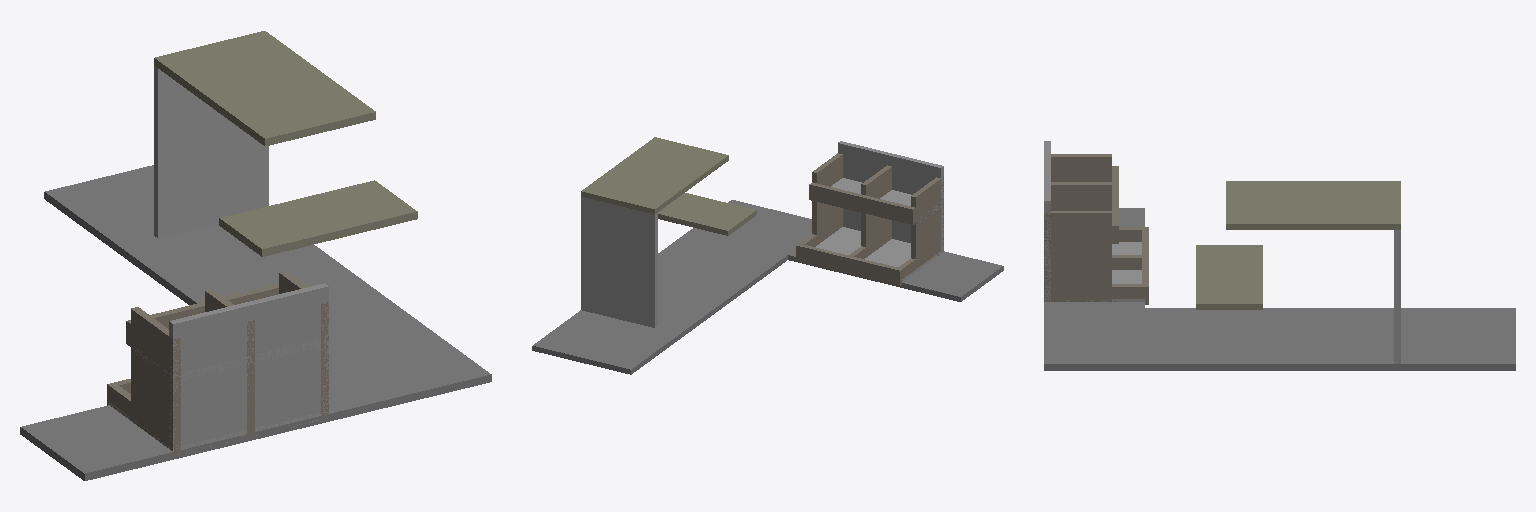
URDF robot description (industrial):
<robot name="industrial">
    <link name="object" type="static">
        <contact>
            <lateral_friction value="1.0"/>
        </contact>
        <inertial>
            <origin rpy="0 0 0" xyz="0 0 0"/>
            <mass value=".0"/>
            <inertia ixx="1" ixy="0" ixz="0" iyy="1" iyz="0" izz="1"/>
        </inertial>
        <visual>
            <origin xyz="0.75 -0.1 0.7" rpy="0 0 0"/>
            <geometry>
                <box size="0.4 1.4 0.02"/>
            </geometry>
            <material name="white">
                <color rgba="0.517647058823529 0.517647058823529 0.517647058823529 1"/>
            </material>
        </visual>
        <visual>
            <origin xyz="0.4 -0.65 0.7" rpy="0 0 0"/>
            <geometry>
                <box size="1.1 0.3 0.02"/>
            </geometry>
            <material name="white">
                <color rgba="0.517647058823529 0.517647058823529 0.517647058823529 1"/>
            </material>
        </visual>
        <visual>
            <origin xyz="0.1 -0.7 0.85" rpy="0 0 0"/>
            <geometry>
                <box size="0.02 0.2 0.3"/>
            </geometry>
            <material name="white">
                <color rgba="0.545098039215686 0.513725490196078 0.470588235294118 0.988235294117647"/>
            </material>
        </visual>
        <visual>
            <origin xyz="0.3 -0.7 0.85" rpy="0 0 0"/>
            <geometry>
                <box size="0.02 0.2 0.3"/>
            </geometry>
            <material name="white">
                <color rgba="0.545098039215686 0.513725490196078 0.470588235294118 1"/>
            </material>
        </visual>
        <visual>
            <origin xyz="0.5 -0.7 0.85" rpy="0 0 0"/>
            <geometry>
                <box size="0.02 0.2 0.3"/>
            </geometry>
            <material name="white">
                <color rgba="0.545098039215686 0.513725490196078 0.470588235294118 0.988235294117647"/>
            </material>
        </visual>
        <visual>
            <origin xyz="0.3 -0.65 0.71" rpy="0 0 0"/>
            <geometry>
                <box size="0.42 0.3 0.02"/>
            </geometry>
            <material name="white">
                <color rgba="0.627450980392157 0.627450980392157 0.627450980392157 1"/>
            </material>
        </visual>
        <visual>
            <origin xyz="0.1 -0.55 0.73" rpy="0 0 0"/>
            <geometry>
                <box size="0.02 0.1 0.06"/>
            </geometry>
            <material name="white">
                <color rgba="0.545098039215686 0.513725490196078 0.470588235294118 1"/>
            </material>
        </visual>
        <visual>
            <origin xyz="0.3 -0.55 0.73" rpy="0 0 0"/>
            <geometry>
                <box size="0.02 0.1 0.06"/>
            </geometry>
            <material name="white">
                <color rgba="0.545098039215686 0.513725490196078 0.470588235294118 1"/>
            </material>
        </visual>
        <visual>
            <origin xyz="0.5 -0.55 0.73" rpy="0 0 0"/>
            <geometry>
                <box size="0.02 0.1 0.06"/>
            </geometry>
            <material name="white">
                <color rgba="0.545098039215686 0.513725490196078 0.470588235294118 1"/>
            </material>
        </visual>
        <visual>
            <origin xyz="0.3 -0.5 0.73" rpy="0 0 0"/>
            <geometry>
                <box size="0.42 0.02 0.06"/>
            </geometry>
            <material name="white">
                <color rgba="0.545098039215686 0.513725490196078 0.470588235294118 1"/>
            </material>
        </visual>
        <visual>
            <origin xyz="0.3 -0.59 0.93" rpy="0 0 0"/>
            <geometry>
                <box size="0.42 0.02 0.06"/>
            </geometry>
            <material name="white">
                <color rgba="0.545098039215686 0.513725490196078 0.470588235294118 1"/>
            </material>
        </visual>
        <visual>
            <origin xyz="0.3 -0.79 0.87" rpy="0 0 0"/>
            <geometry>
                <box size="0.42 0.02 0.34"/>
            </geometry>
            <material name="white">
                <color rgba="0.6 0.6 0.6 1"/>
            </material>
        </visual>
        <visual>
            <origin xyz="0.3 -0.7 0.9" rpy="0 0 0"/>
            <geometry>
                <box size="0.42 0.2 0.02"/>
            </geometry>
            <material name="white">
                <color rgba="0.627450980392157 0.627450980392157 0.627450980392157 0.980392156862745"/>
            </material>
        </visual>
        <visual>
            <origin xyz="0.8 0.25 0.925" rpy="0 0 0"/>
            <geometry>
                <box size="0.3 0.02 0.45"/>
            </geometry>
            <material name="white">
                <color rgba="0.627450980392157 0.627450980392157 0.627450980392157 0.980392156862745"/>
            </material>
        </visual>
        <visual>
            <origin xyz="0.8 -0.25 0.925" rpy="0 0 0"/>
            <geometry>
                <box size="0.42 0.2 0.02"/>
            </geometry>
            <material name="white">
                <color rgba="0.545098039215686 0.545098039215686 0.47843137254902 1"/>
            </material>
        </visual>
        <visual>
            <origin xyz="0.8 -0.00 1.16" rpy="0 0 0"/>
            <geometry>
                <box size="0.3 0.52 0.02"/>
            </geometry>
            <material name="white">
                <color rgba="0.545098039215686 0.545098039215686 0.47843137254902 1"/>
            </material>
        </visual>
    </link>
</robot>

--- Render facts (derived) ---
3 views of the same robot in one strip: view 1: azimuth 30°, elevation 25°; view 2: azimuth 150°, elevation 25°; view 3: azimuth 270°, elevation 25° (orthographic).
Robot: industrial — 1 links, 0 joints (none); root link object; default pose: every joint at zero.
Visible links, largest first — view 1: object; view 2: object; view 3: object.
Boxes of the visible links, x1,y1,x2,y2 form: object: (20,31,491,480); object: (532,137,1003,374); object: (1044,141,1515,370).
Size in the robot's own frame: 1.16 by 1.4 by 0.48 metres.
Geometry: primitives only (box / cylinder / sphere), no mesh files.